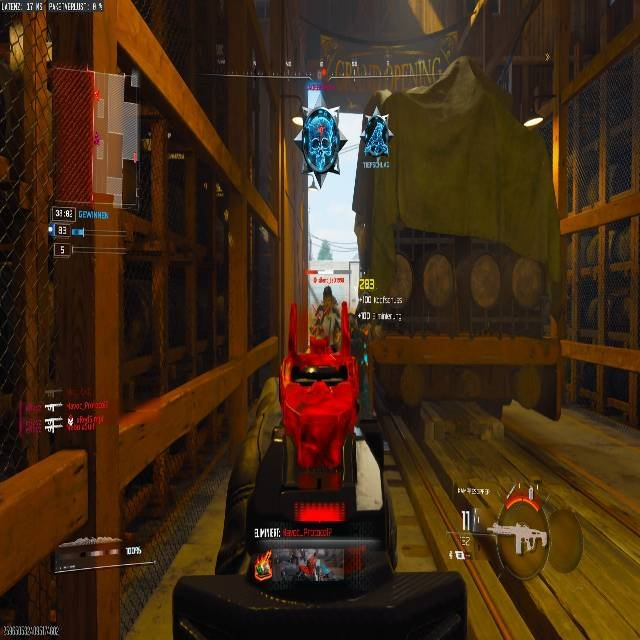head: (321, 287, 333, 303), (323, 286, 331, 297)
player: (299, 105, 343, 188), (309, 289, 352, 357), (312, 287, 337, 337)
